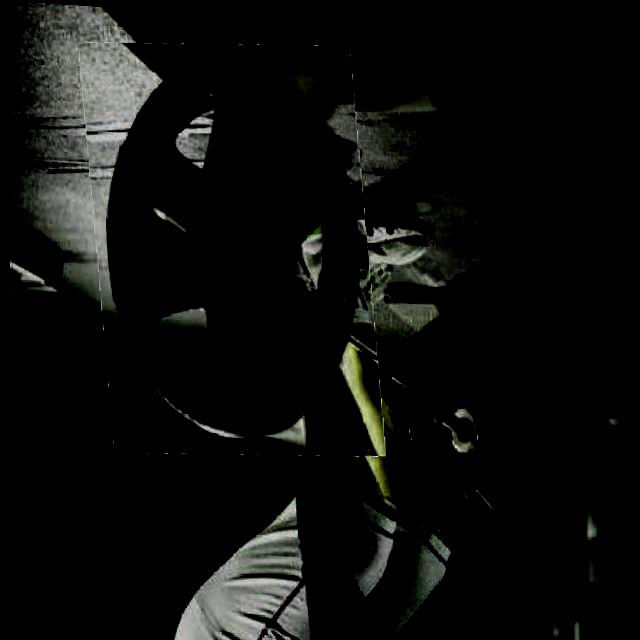barbell: (83, 32, 377, 462)
